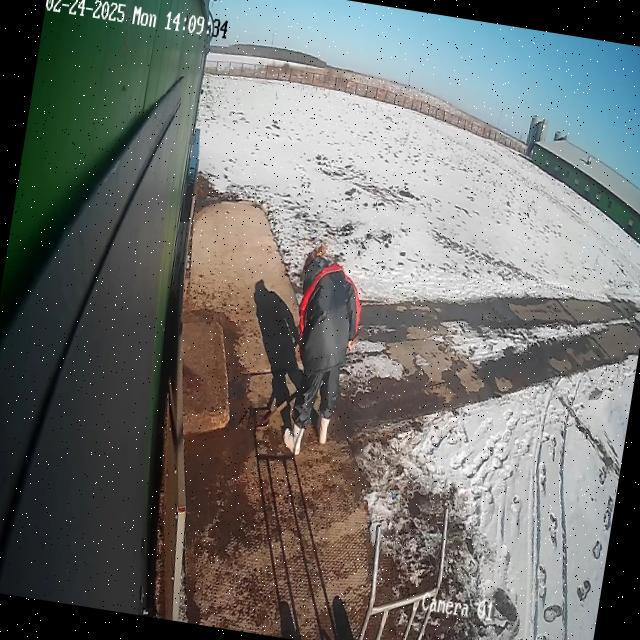Red uniform: (278, 255, 369, 437)
